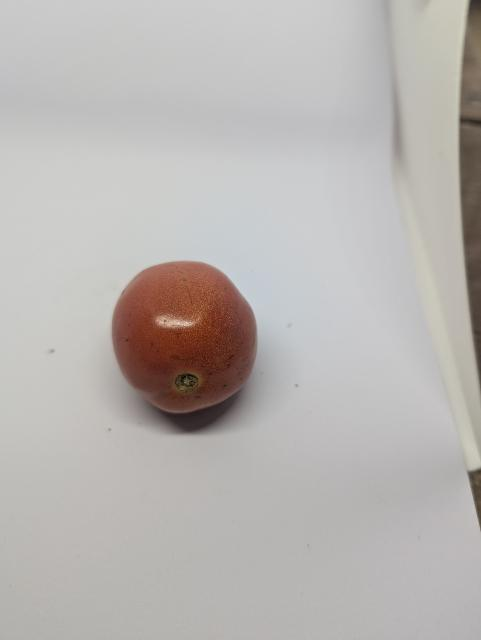red: (107, 257, 268, 428)
